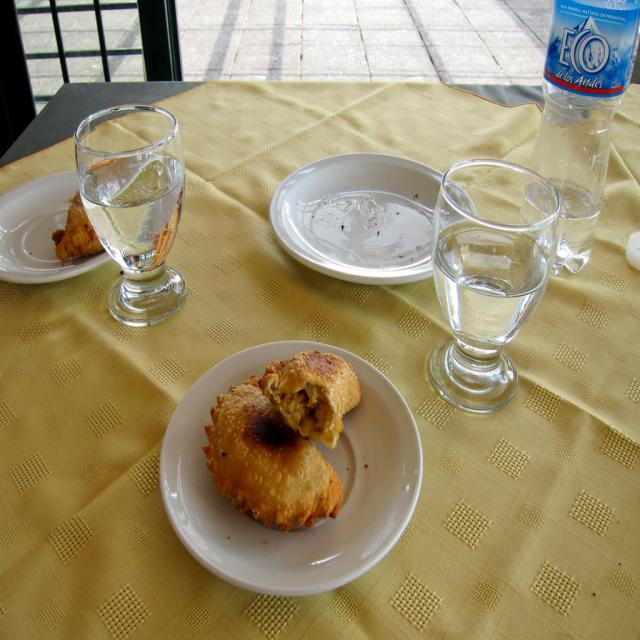non-organic waste: (164, 337, 424, 598)
